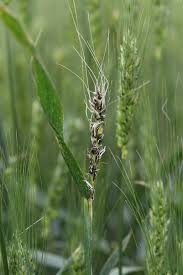Wheat Loose Smut: (83, 81, 112, 178)
